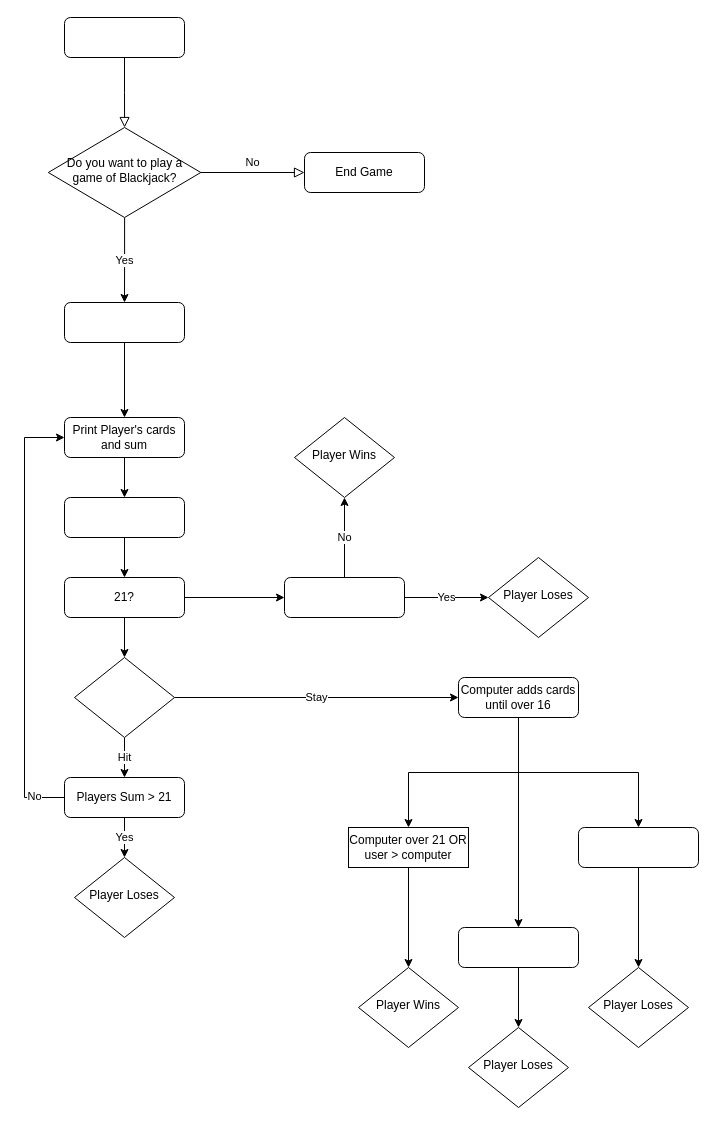
This 716x1125 diagram has some shape labels left out. Each missing label, with the centre of its shape:
Computer = 21: the point at 638,847
Computer gets 21: the point at 344,597
Computer under 21 AND user < computer: the point at 518,947
Hit or Stay?: the point at 124,697
Print Dealer's 1st card: the point at 124,517
Print Logo: the point at 124,322
Start: the point at 124,37
